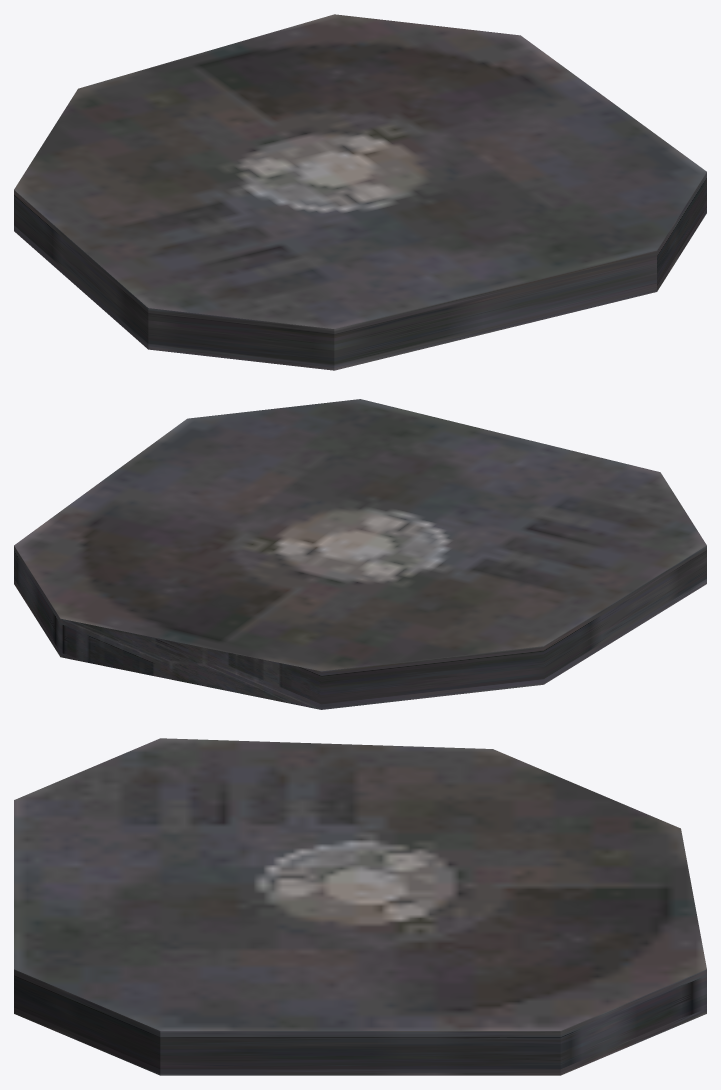
File: eqp_data_disk_l1.fbx
The picture shows the model from 3 angles, top to bottom: view 1: azimuth 30°, elevation 25°; view 2: azimuth 150°, elevation 25°; view 3: azimuth 270°, elevation 25°; orthographic projection. The views are drawn at different scales.
Parts seen in each view (by area): view 1: mesh_node; view 2: mesh_node; view 3: mesh_node.
Part boxes in pixels (bbox=[...]): mesh_node: bbox=[14, 14, 706, 370]; mesh_node: bbox=[14, 399, 706, 709]; mesh_node: bbox=[14, 738, 706, 1075].
Bounding box in the file's own units: 0.0789 × 0.0056 × 0.0789.
Materials: 1 (1 with a texture image).
